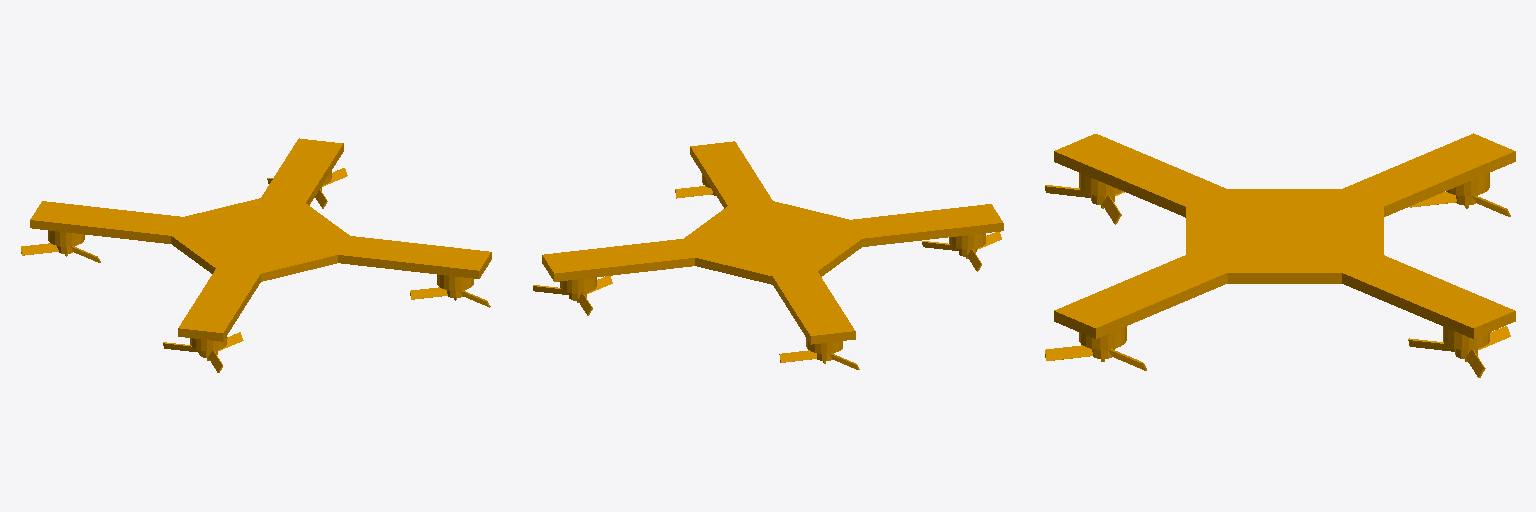
The robot description file, URDF, robot "quad":
<?xml version="1.0"?>
<robot name="quad">
  <link name="drone">
    <visual>
      <geometry>
	<mesh filename="package://aruco_track/resources/quad.stl"/>
      </geometry>
    </visual>
  </link>
</robot>

--- What the picture shows (computed from the rendered views, not written in the file) ---
3 views of the same robot in one strip: view 1: azimuth 30°, elevation 25°; view 2: azimuth 150°, elevation 25°; view 3: azimuth 270°, elevation 25° (orthographic).
Robot: quad — 1 links, 0 joints (none); root link drone; default pose: every joint at zero.
Links seen in each view (by area): view 1: drone; view 2: drone; view 3: drone.
Boxes of the visible links, box(x1,y1,x2,y2) form: drone: box(21, 138, 491, 372); drone: box(533, 141, 1003, 369); drone: box(1045, 133, 1515, 377).
Size in the robot's own frame: 121 by 119 by 15 metres.
1 mesh visuals loaded from 1 distinct referenced files (1 binary STL).